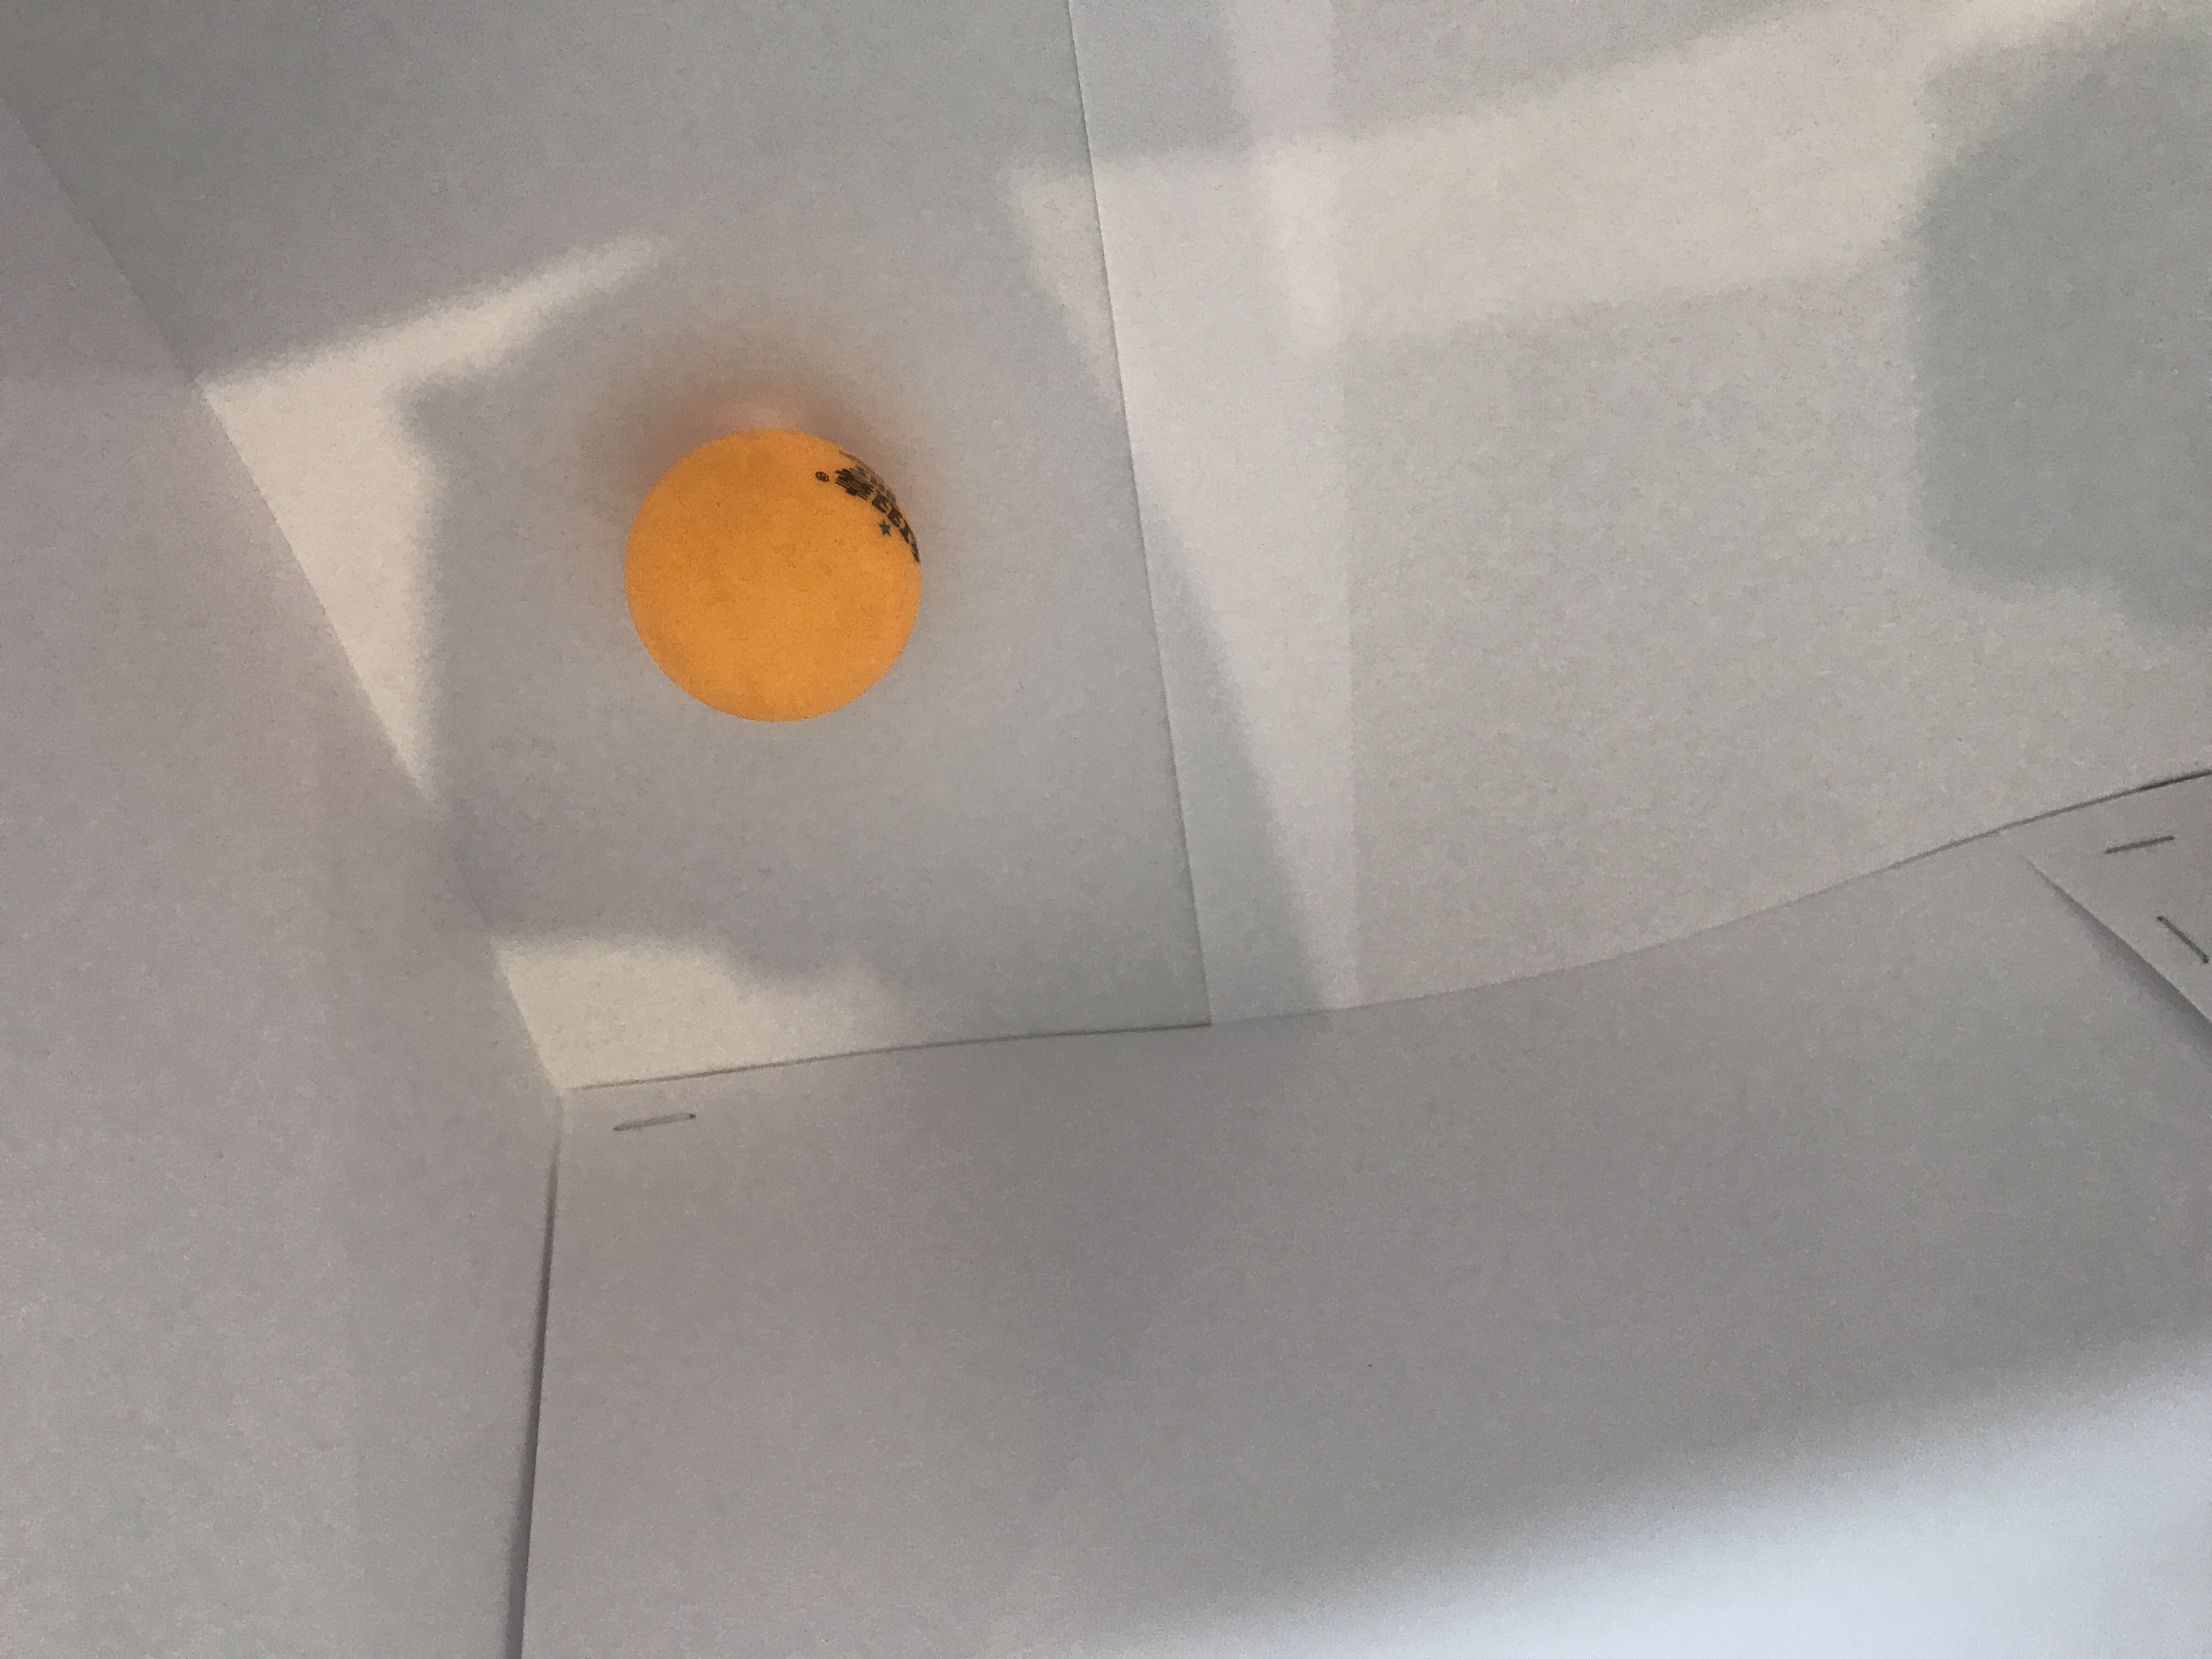pp: (622, 423, 927, 730)
